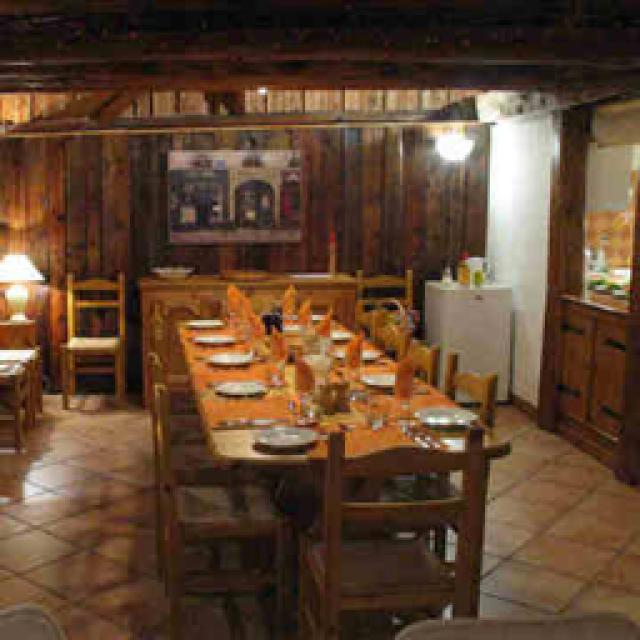bottle crop: (455, 242, 465, 280)
bowl -X: (150, 260, 190, 275)
buffet: (138, 270, 355, 405)
cabinet door: (542, 290, 628, 455)
chair: (442, 350, 492, 428), (398, 332, 430, 378)
chair -occluded-: (298, 425, 482, 632), (155, 382, 280, 635), (58, 268, 122, 408), (352, 265, 410, 320)
chairs desk: (0, 345, 40, 448)
glass ceiling: (390, 360, 410, 395), (358, 402, 388, 425), (262, 355, 282, 385)
lamp crop: (0, 250, 42, 318), (428, 132, 472, 155)
mirror crop: (575, 100, 635, 298)
napkin ring: (292, 348, 315, 392), (225, 280, 245, 318), (282, 278, 298, 320), (345, 335, 358, 365)
painting crop: (165, 150, 302, 240)
plate food: (412, 402, 472, 428), (252, 425, 312, 448), (210, 375, 265, 395), (360, 370, 420, 388), (205, 350, 255, 365), (188, 332, 235, 342)
refridgerator: (422, 275, 508, 400)
table -X: (172, 312, 508, 462)
